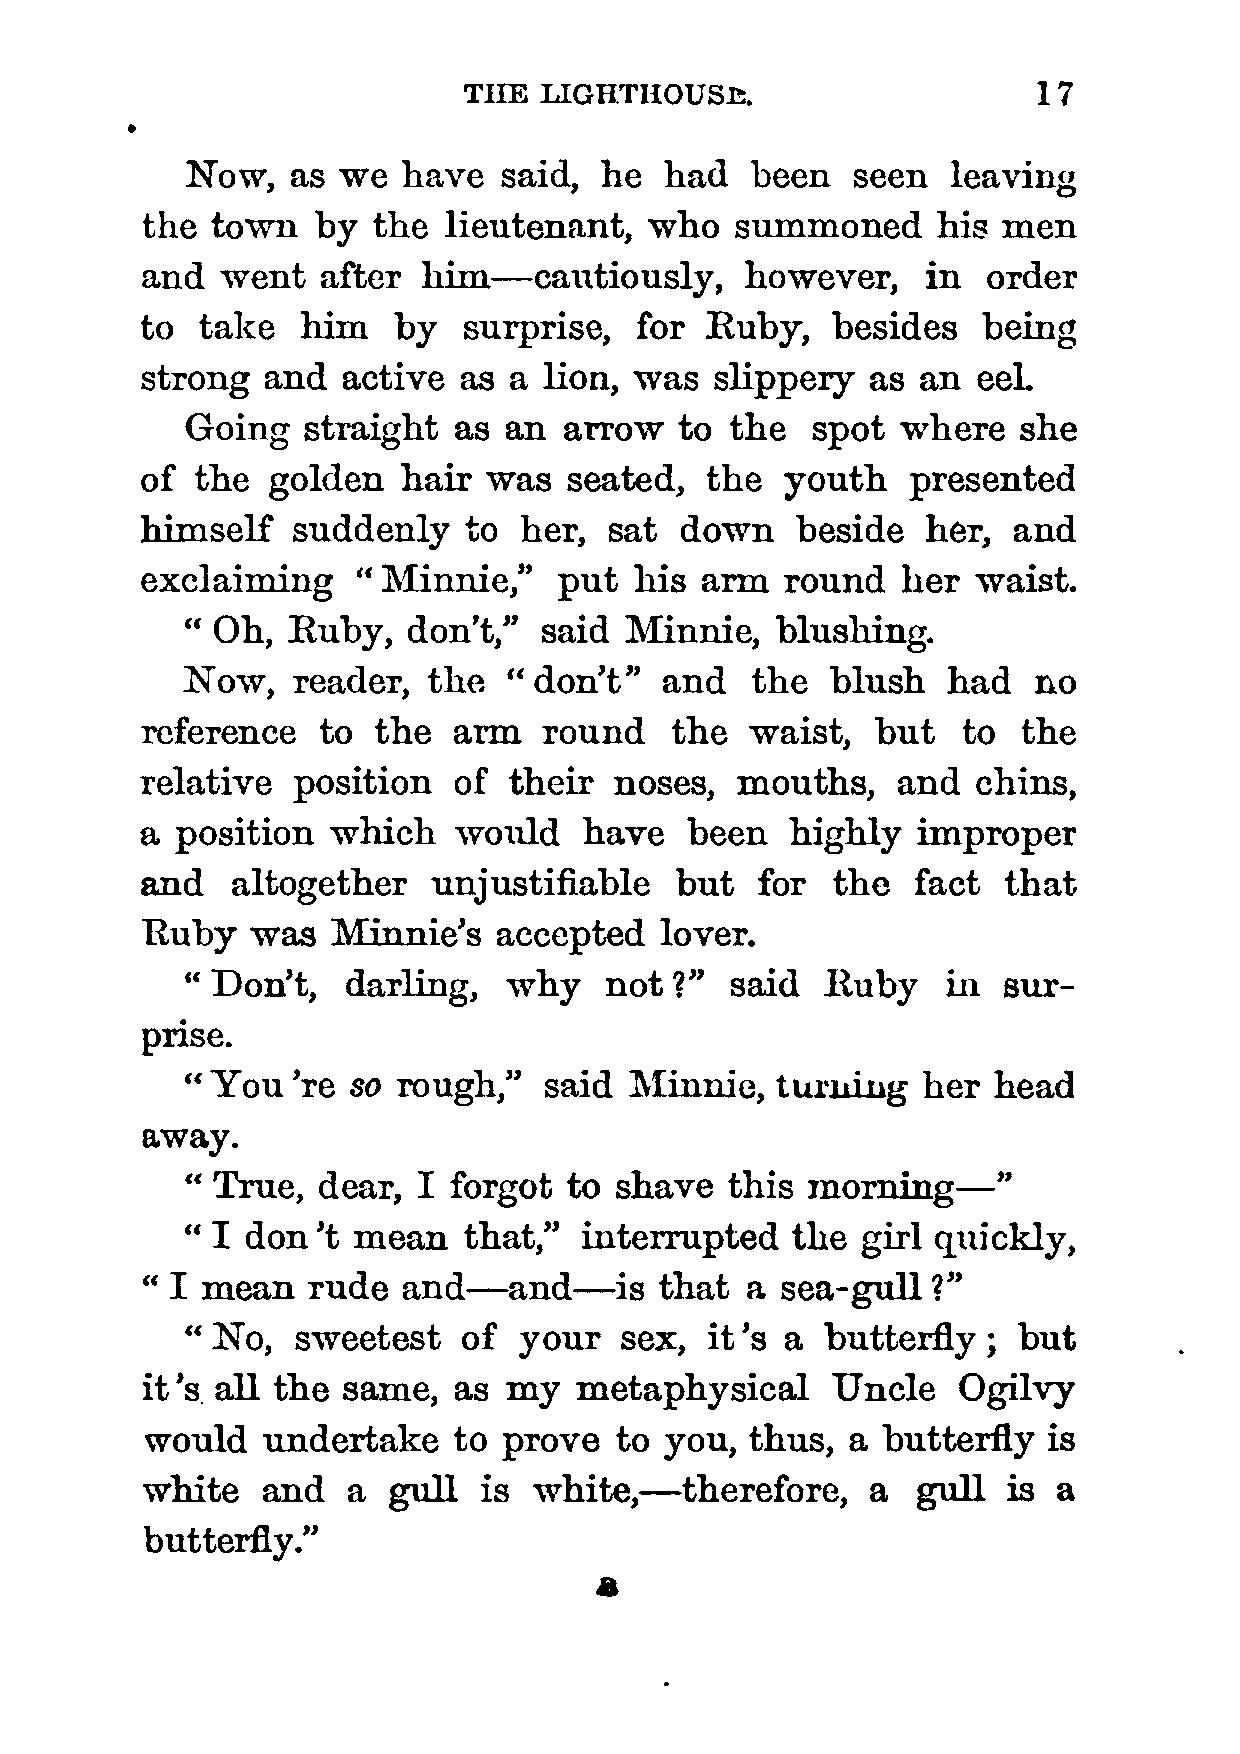content: (136, 152, 1082, 1559)
content_chapter: (455, 76, 754, 109)
content_pagenumber: (1027, 64, 1079, 110)
